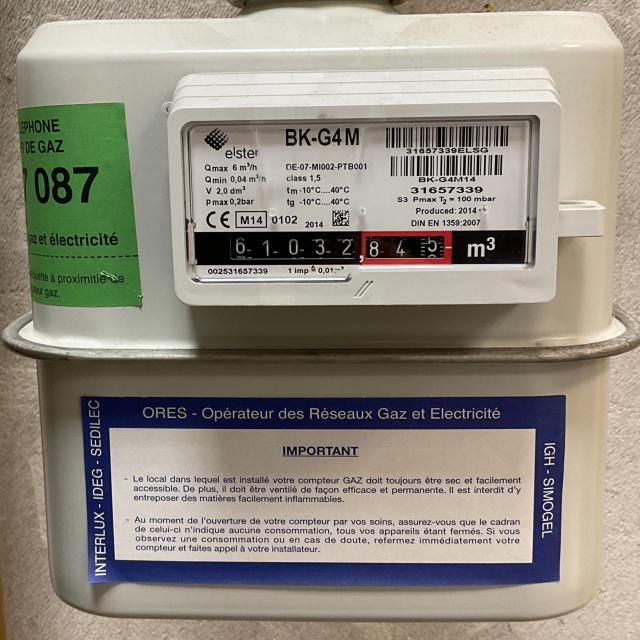gaz_meter: (184, 121, 536, 265)
indication: (195, 231, 452, 264)
